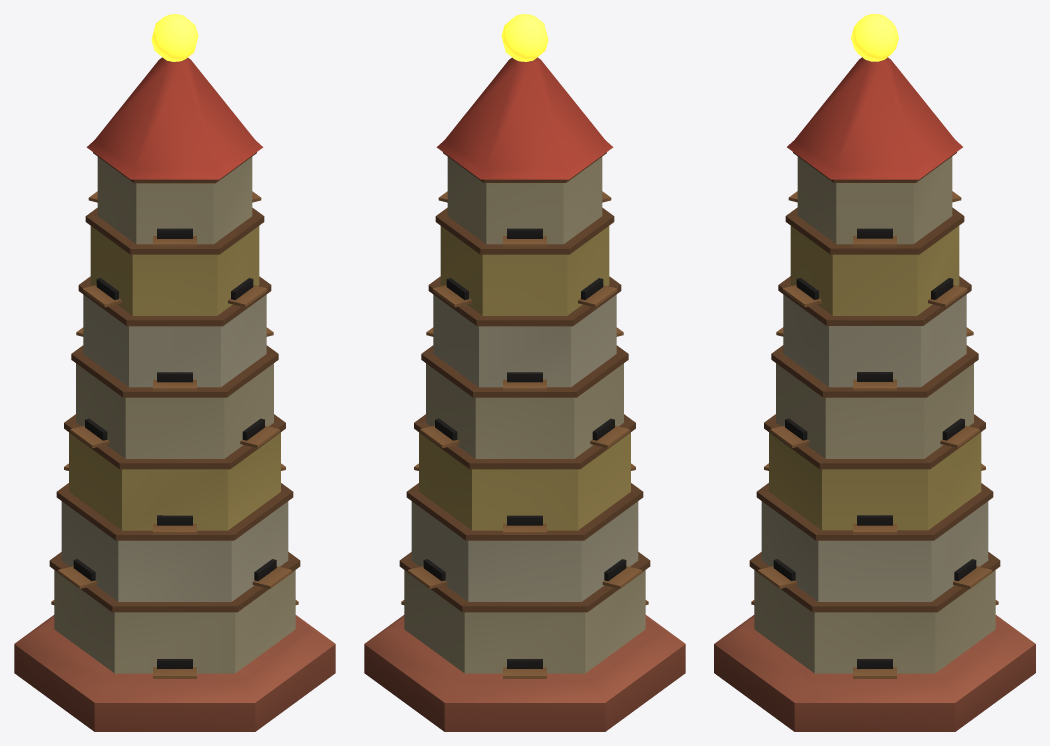
The model's file is prop.honey_hive_tower.glb.
3 renders of one model, left to right at view 1: azimuth 30°, elevation 25°; view 2: azimuth 150°, elevation 25°; view 3: azimuth 270°, elevation 25°, orthographic.
Visible parts, largest first — view 1: honey_hive_tower; view 2: honey_hive_tower; view 3: honey_hive_tower.
Boxes of the visible parts, x1,y1,x2,y2 form: honey_hive_tower: (14, 14, 335, 731); honey_hive_tower: (364, 14, 685, 731); honey_hive_tower: (714, 14, 1035, 731).
Size of the model in its own units: 6.93 by 18.03 by 8.
